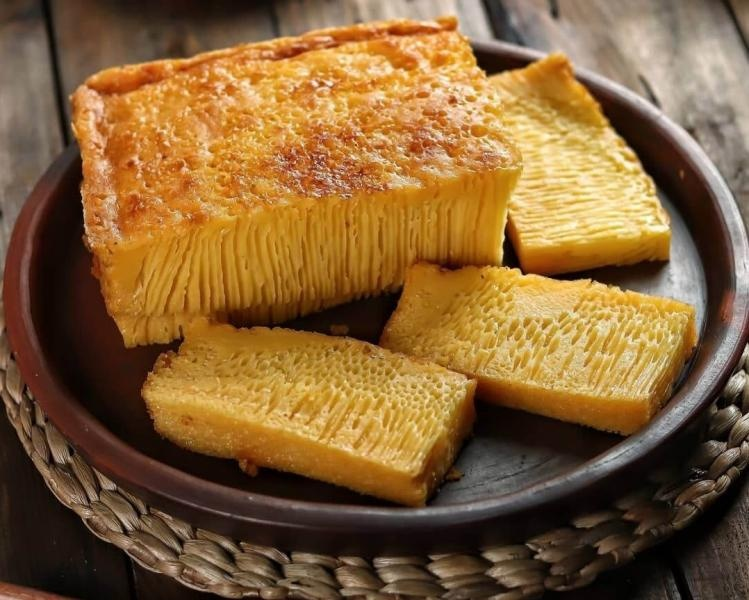bika_ambon: (89, 158, 506, 344), (129, 311, 474, 513), (365, 241, 700, 438)
